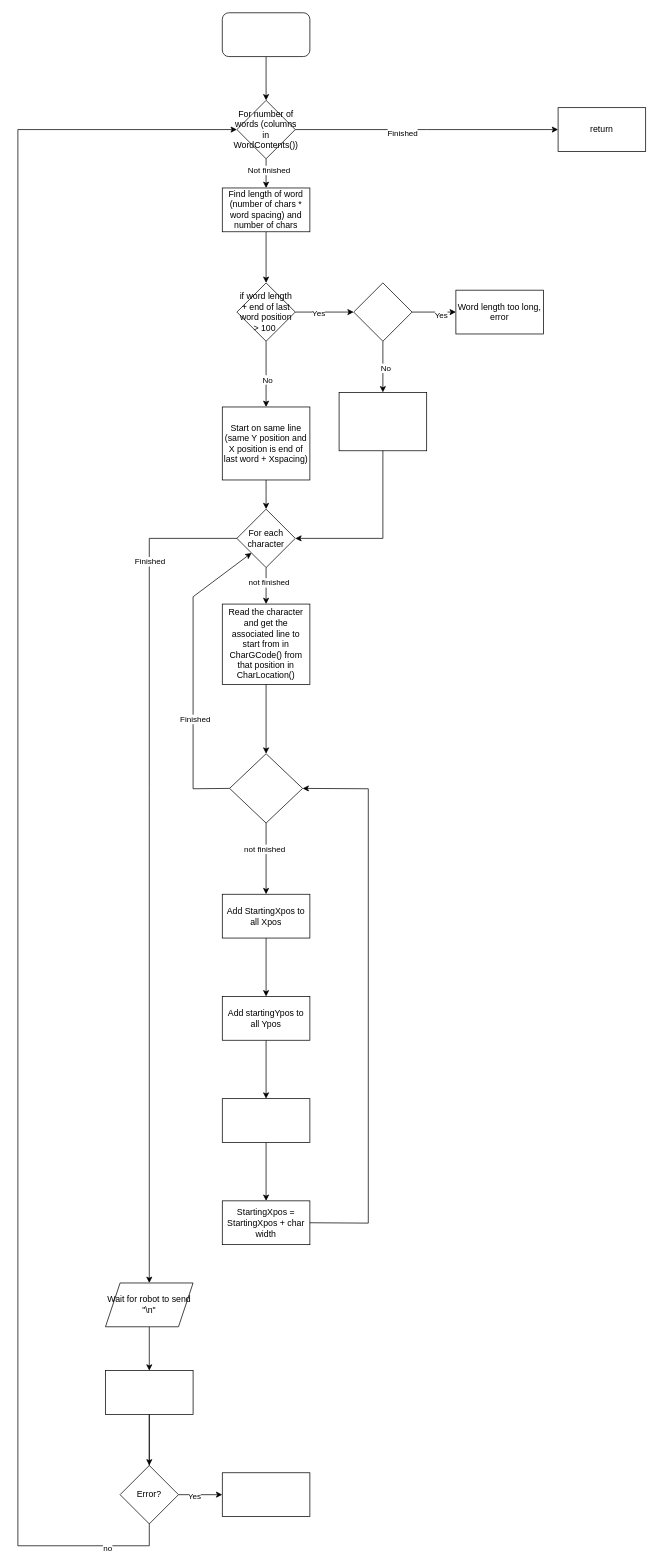
Image size: 658x1566. Some labels were removed from this diagram. Here are the shapes that lost their labels. From the top down, the centre of each, then its label:
pixel 266 34: Function: WordToGCodeAndSend
pixel 382 311: Is word length >100
pixel 382 421: Start new line (decrease Y position by Yspacing and reset X position to 0)
pixel 266 788: for each GCode line for the Char in CharGCode (i)
pixel 266 1120: Save to CurrentWordGCode(i)
pixel 149 1392: Function: SendtoRobot()
pixel 266 1494: Report error and stop
